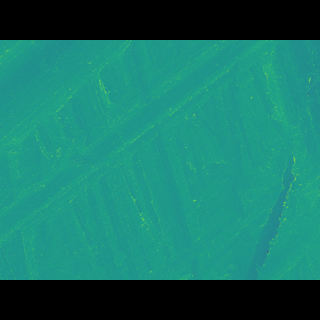Loch: (0, 71, 297, 224), (85, 116, 316, 250)
